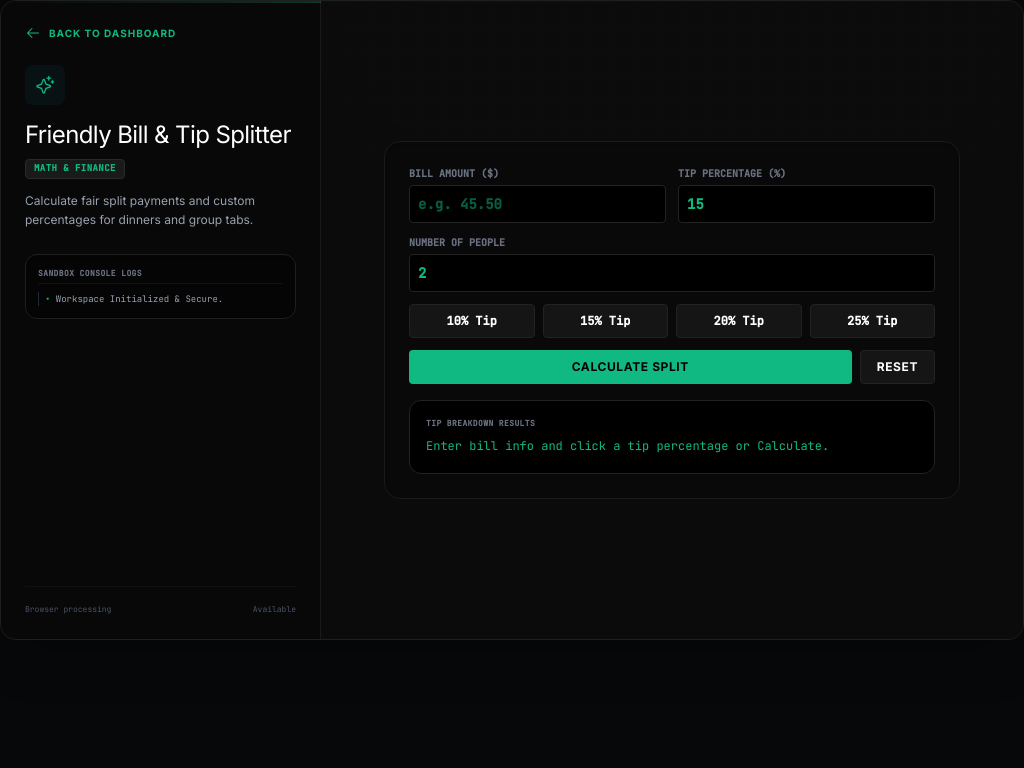
Test: P1-B3 tip calculator workspace (GenericUtilityWorkspace) › tip-calc supports zero bill and decimal amounts
This screenshot has width=1024, height=768.
Type "0" into the number field labelled "Bill Amount ($)".
click(538, 204); type("0")  # box x1=409 y1=185 x2=666 y2=223
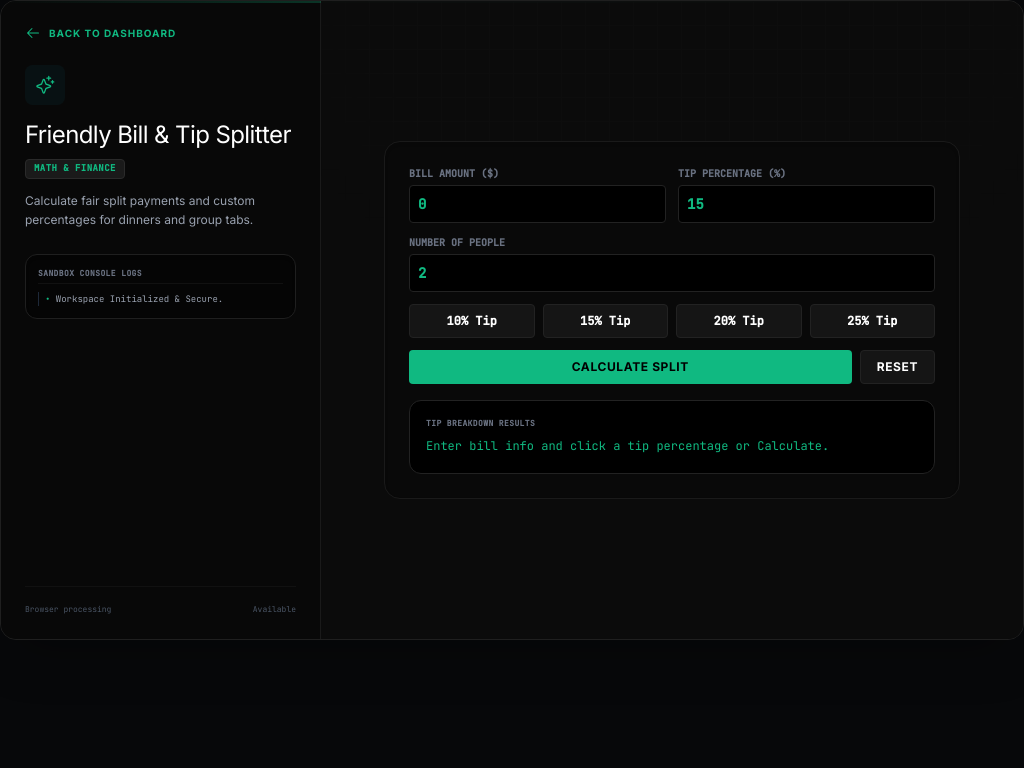
Click the button "10% Tip".
click(472, 321)  # box x1=409 y1=304 x2=534 y2=338
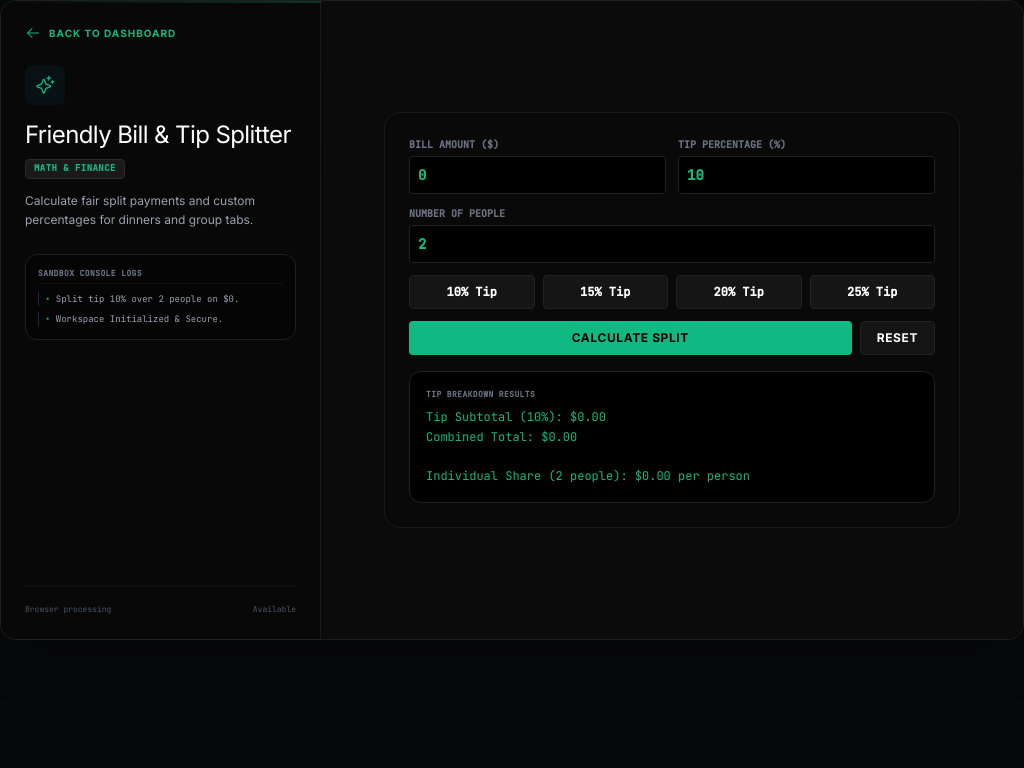
Check: the text "Tip Subtotal (10%): $0.00" is shown, box x1=426 y1=409 x2=750 y2=484
Replace the text in the number field labelled "Bill Amount ($)" with "45.50" at coordinates (538, 175), box x1=409 y1=156 x2=666 y2=194
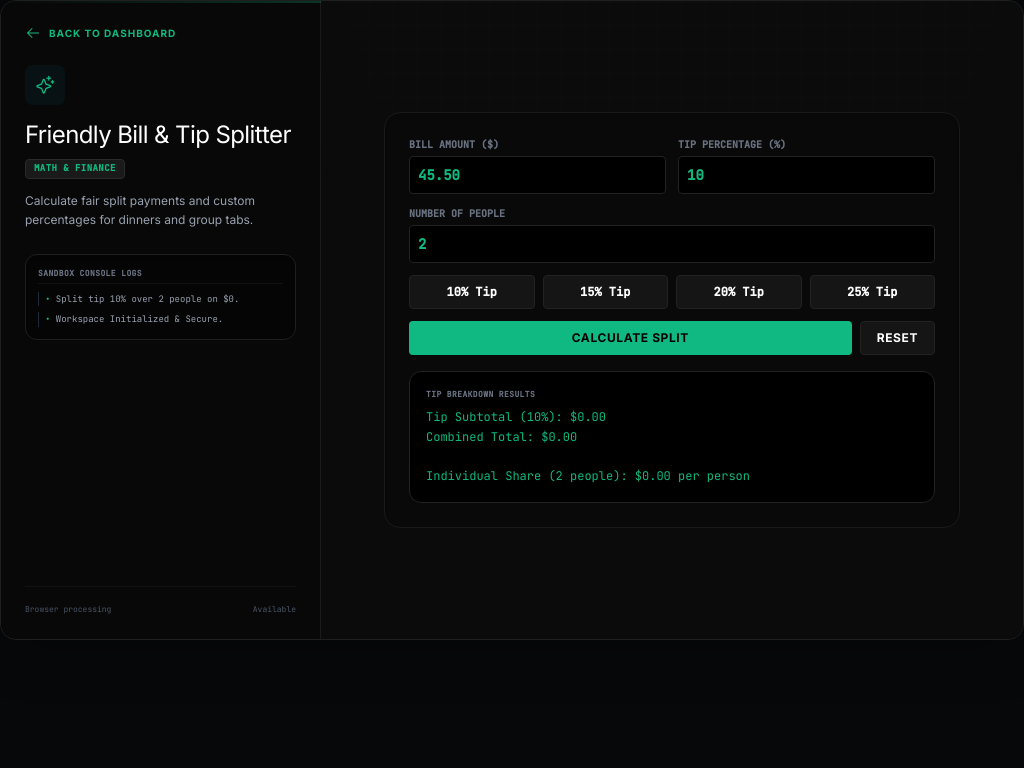
Replace the text in the number field labelled "Number of People" with "3" at coordinates (672, 244), box x1=409 y1=225 x2=935 y2=263
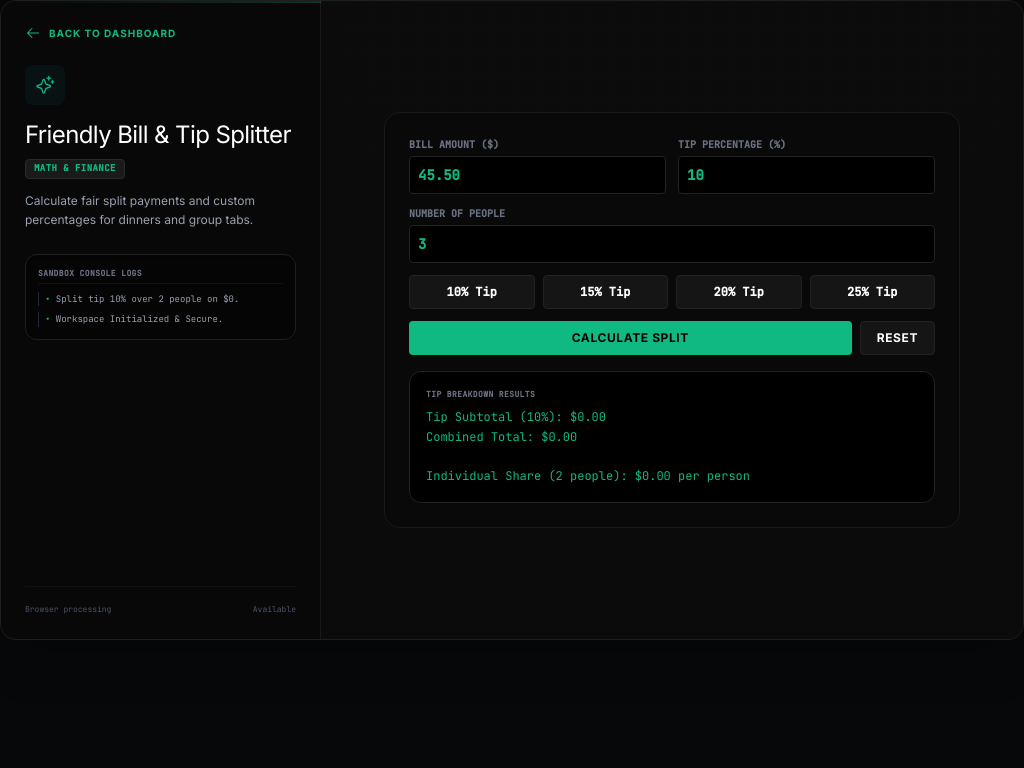
Replace the text in the number field labelled "Tip Percentage (%)" with "15" at coordinates (806, 175), box x1=678 y1=156 x2=935 y2=194
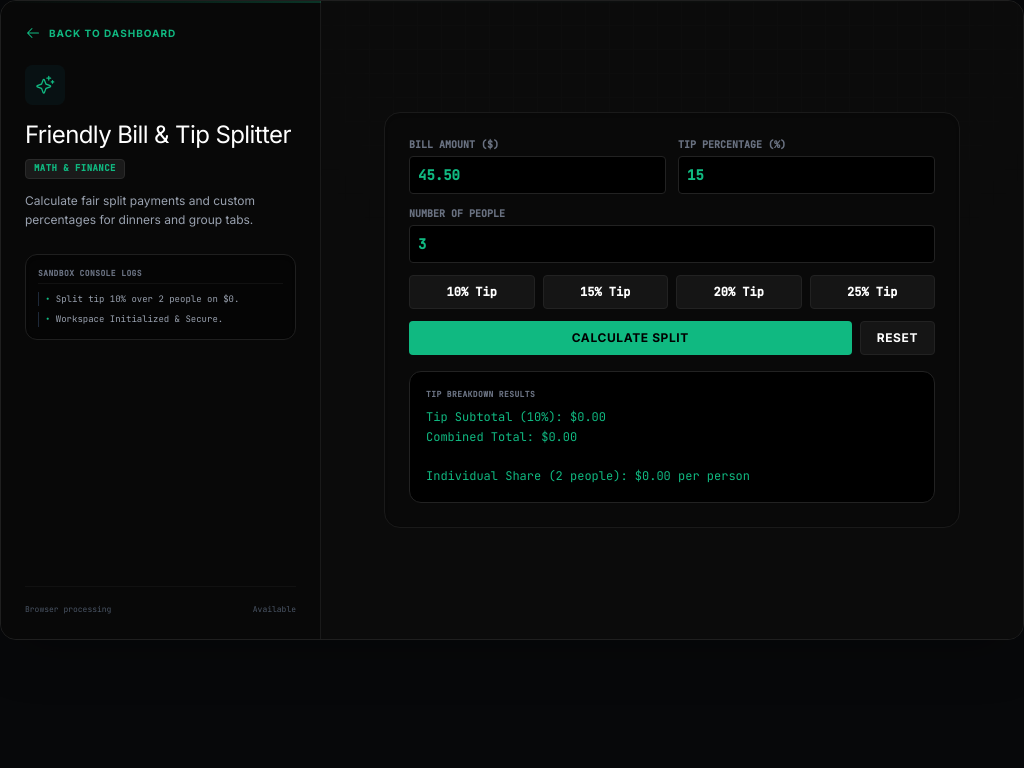
Submit the form, box x1=409 y1=137 x2=935 y2=355
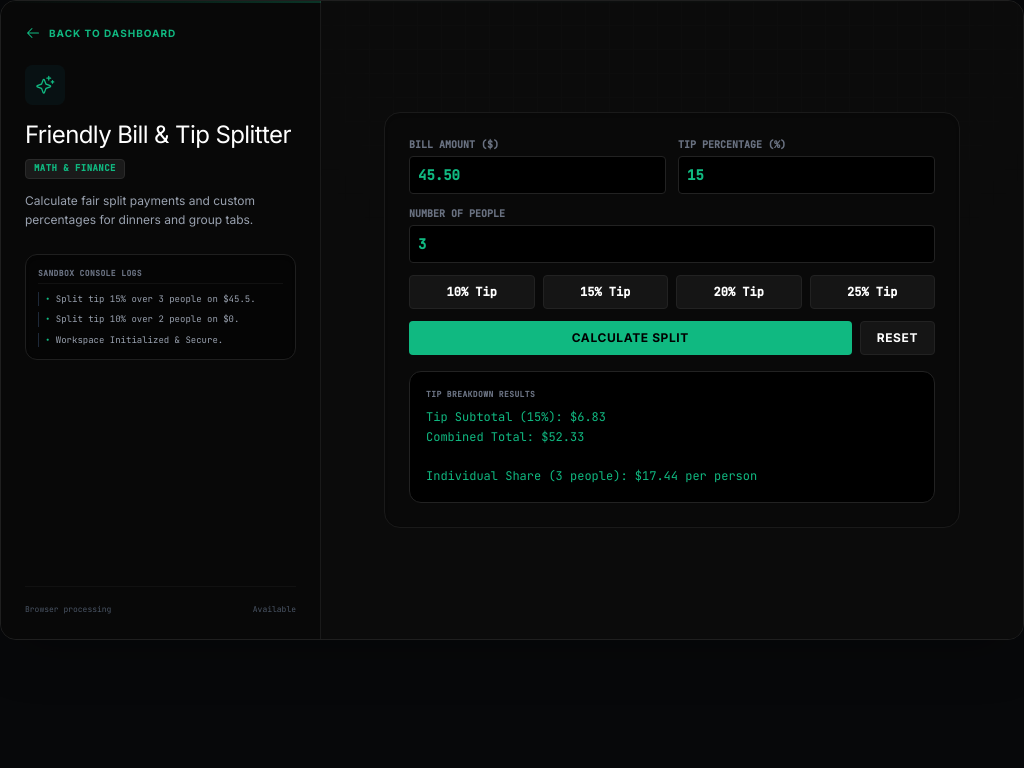
Check: the text "Combined Total: $52.33" is shown, box x1=426 y1=409 x2=757 y2=484
